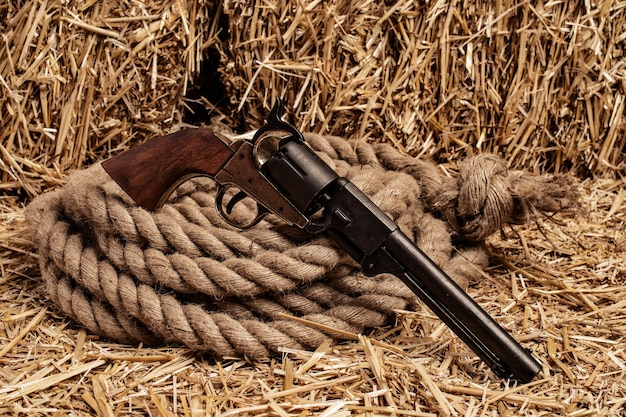gun: (100, 97, 543, 386)
